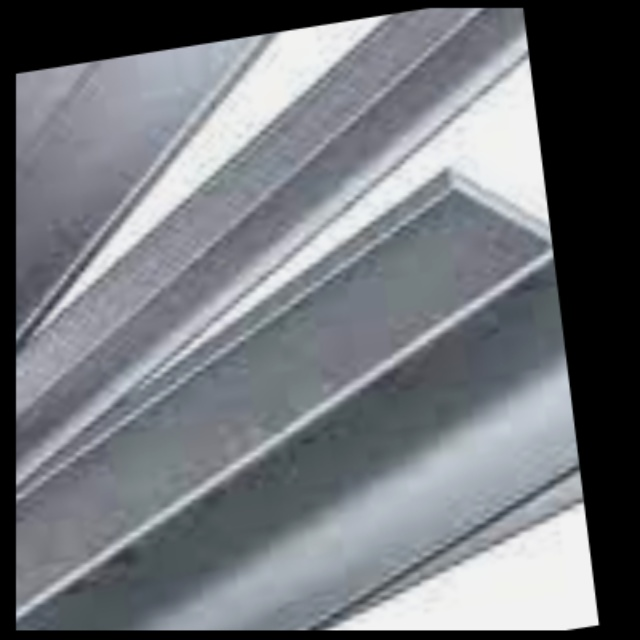Angle: (455, 169, 577, 463)
